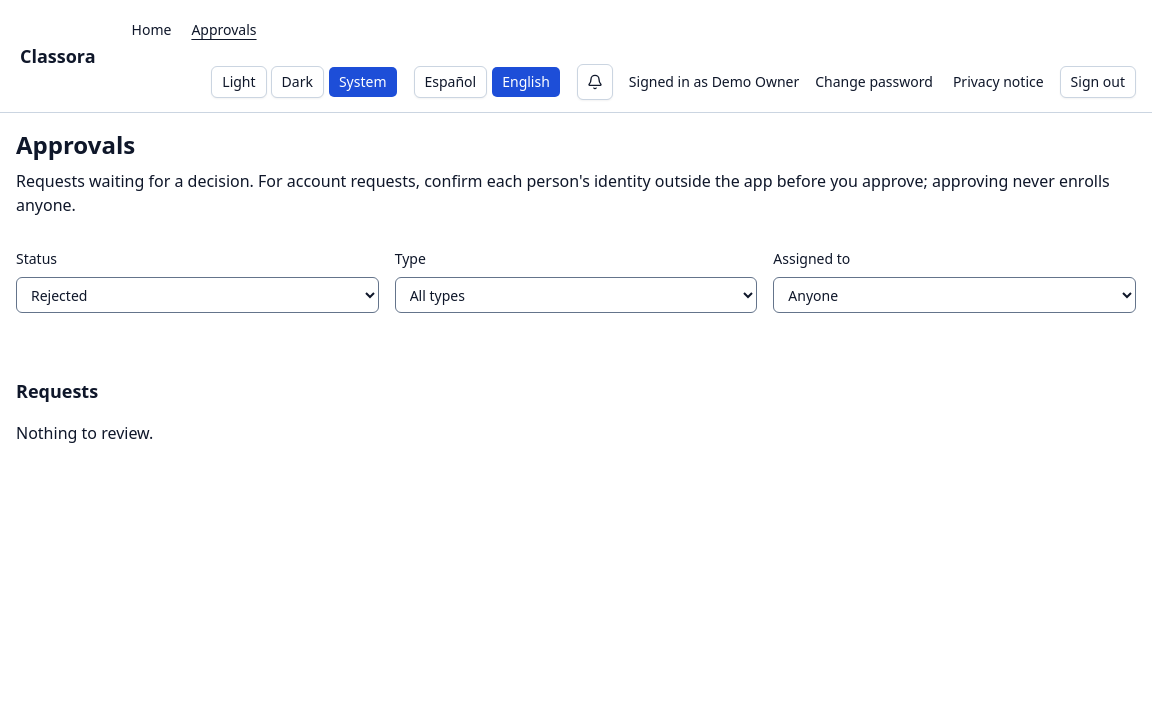
Test: the list (F3) › shows the empty and the error states
Expected: the element that starts with "Approvals" shows "Nothing to review.", [16, 422, 153, 444]
Select "Rejected" in the dropdown labelled "Status": (197, 295) [16, 277, 379, 313]
Click the dropdown labelled "Status": (197, 295) [16, 277, 379, 313]
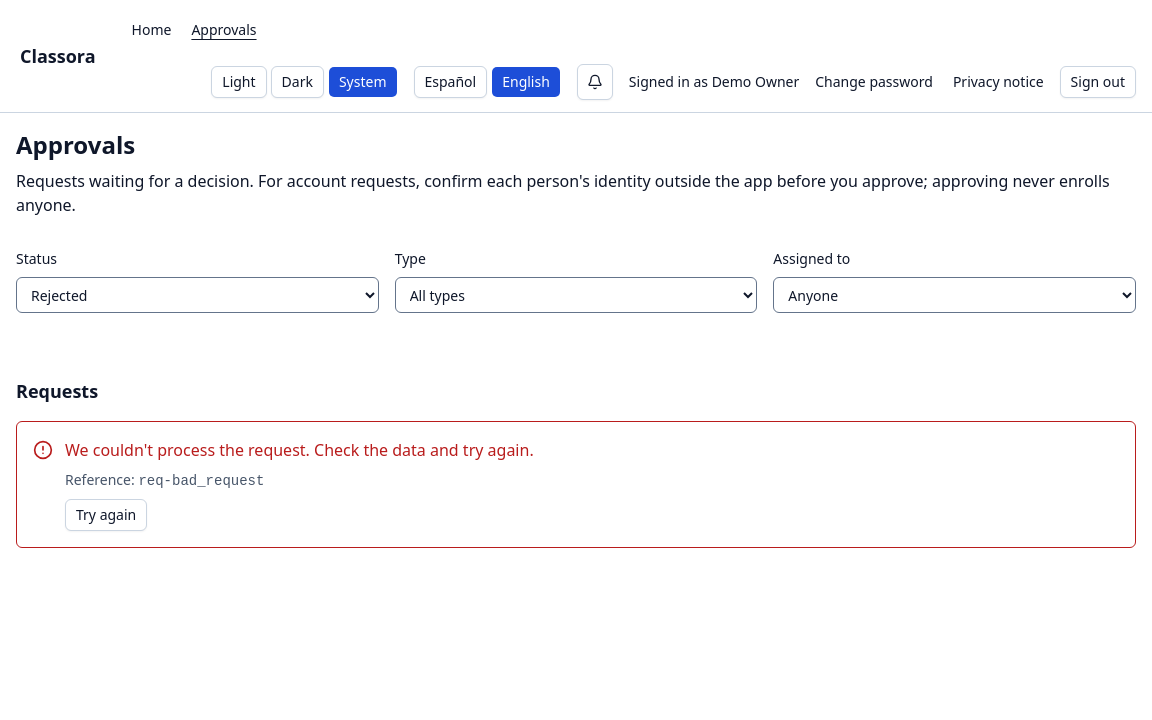
Expected: the button "Try again" is shown, [65, 499, 147, 531]
